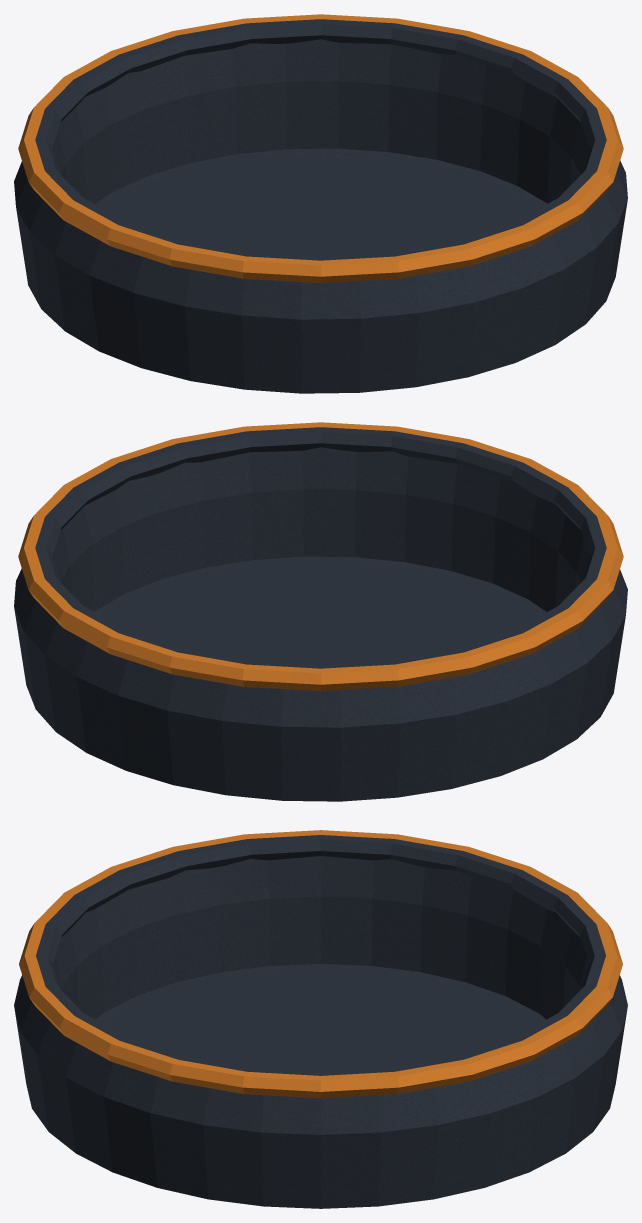
File: EVHalloween_Decor_HalloweenCandyBowl.fbx
The picture shows the model from 3 angles, top to bottom: view 1: azimuth 30°, elevation 25°; view 2: azimuth 150°, elevation 25°; view 3: azimuth 270°, elevation 25°; orthographic projection.
Parts seen in each view (by area): view 1: EVHalloween_Decor_HalloweenCandyBowl; view 2: EVHalloween_Decor_HalloweenCandyBowl; view 3: EVHalloween_Decor_HalloweenCandyBowl.
Part boxes in pixels (<box>): EVHalloween_Decor_HalloweenCandyBowl: <box>14,14,627,393</box>; EVHalloween_Decor_HalloweenCandyBowl: <box>14,422,627,801</box>; EVHalloween_Decor_HalloweenCandyBowl: <box>14,830,627,1208</box>.
Size of the model in its own units: 38 by 10.61 by 38.
